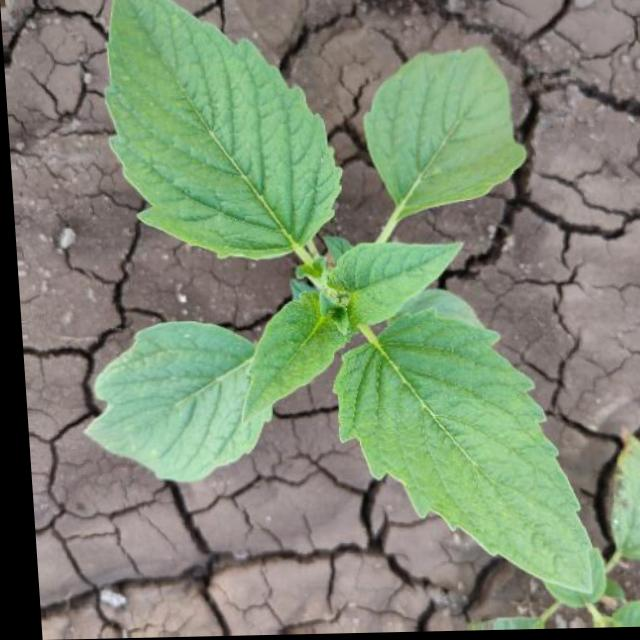weed: (59, 0, 612, 615)
